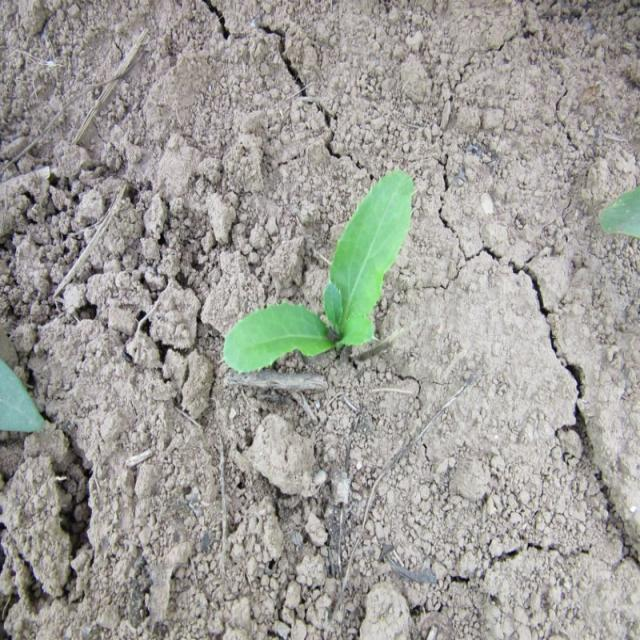field_thistle: (218, 158, 434, 397)
